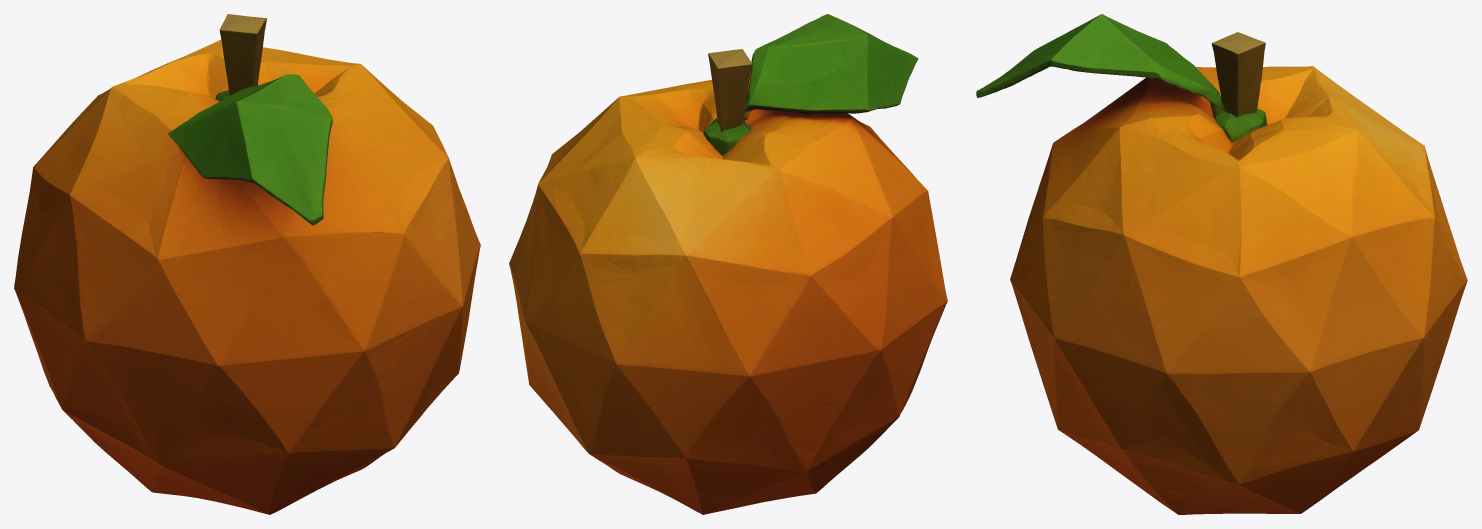
File: orange.glb
The picture shows the model from 3 angles, left to right: view 1: azimuth 30°, elevation 25°; view 2: azimuth 150°, elevation 25°; view 3: azimuth 270°, elevation 25°; orthographic projection. The views are drawn at different scales.
Parts seen in each view (by area): view 1: world; view 2: world; view 3: world.
Boxes of the visible parts, <box> form: world: <box>14,14,480,514</box>; world: <box>509,14,947,514</box>; world: <box>976,14,1467,514</box>.
Size of the model in its own units: 0.8986 by 0.9923 by 0.9949.
Materials: 1 (1 with a texture image).
